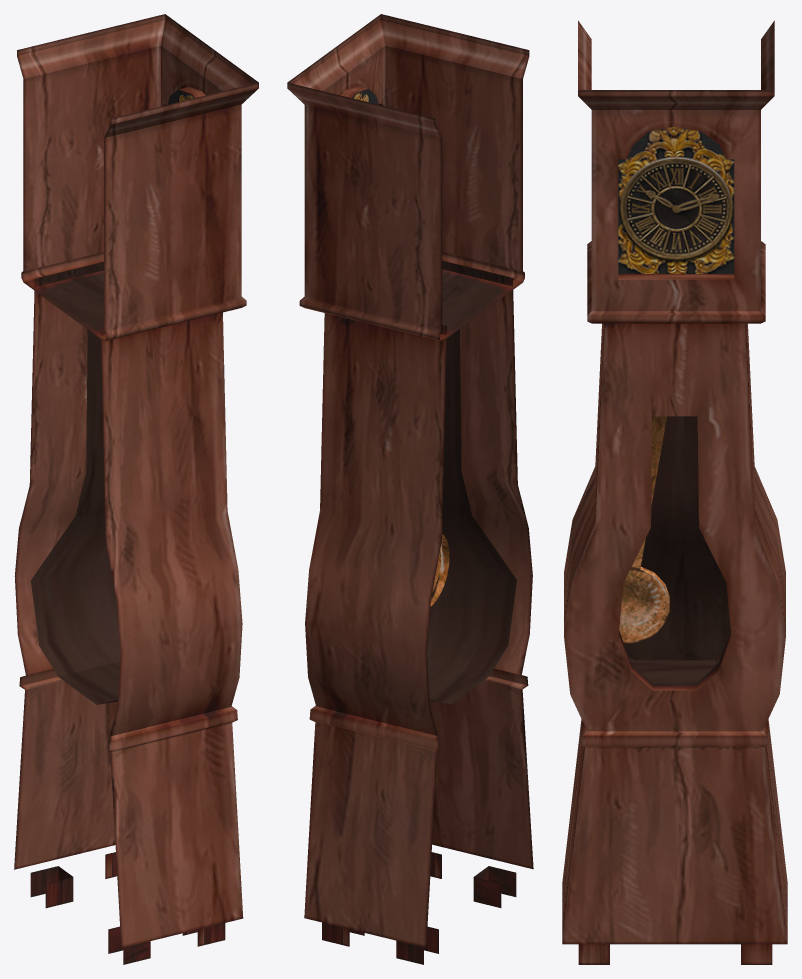
File: pendulum.fbx
3 renders of one model, left to right at view 1: azimuth 30°, elevation 25°; view 2: azimuth 150°, elevation 25°; view 3: azimuth 270°, elevation 25°, orthographic. The views are drawn at different scales.
Visible parts, largest first — view 1: horloge; view 2: horloge, pendule; view 3: horloge, pendule.
Boxes of the visible parts, box(x1,y1,x2,y2) form: horloge: box(14, 14, 258, 964); horloge: box(287, 14, 533, 964); pendule: box(430, 534, 449, 606); horloge: box(562, 20, 787, 964); pendule: box(619, 416, 669, 643).
Size of the model in its own units: 44.39 by 242 by 55.46.
